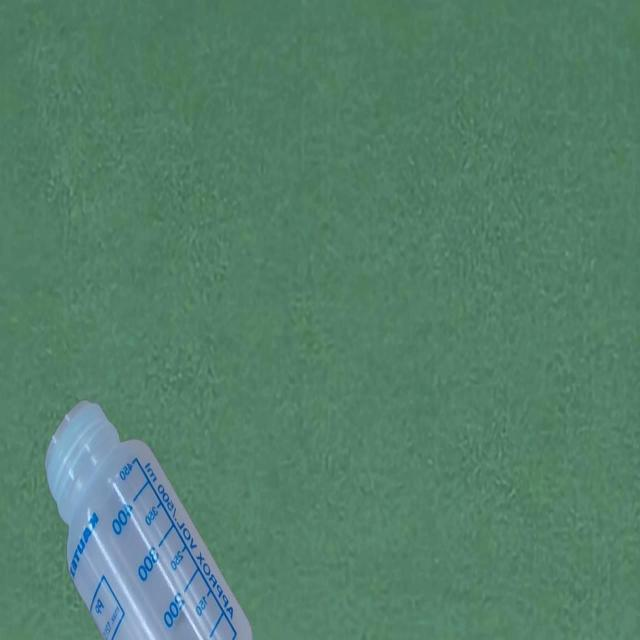bottle: (43, 394, 253, 640)
